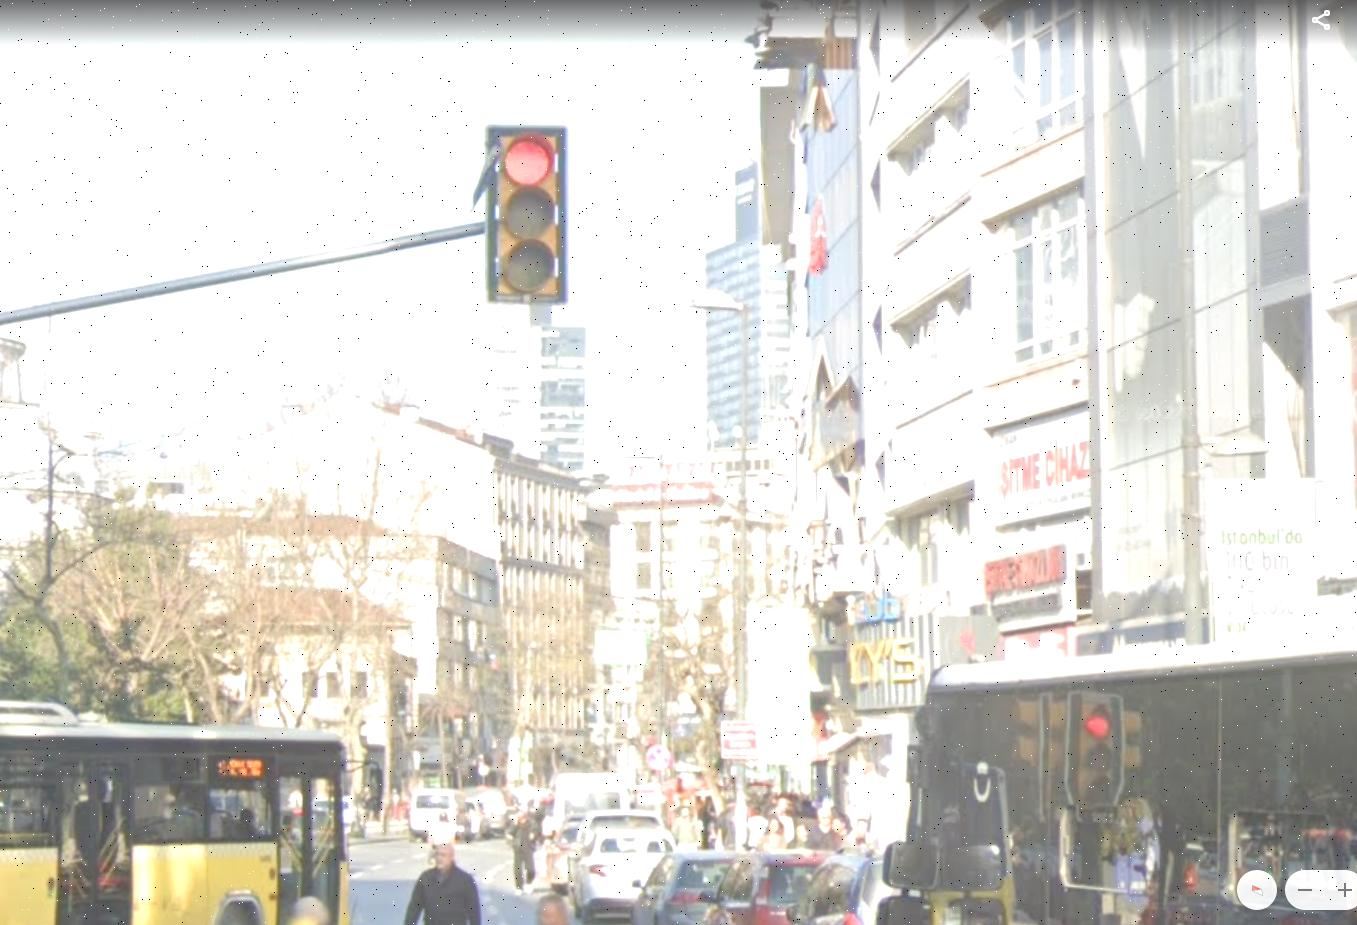redlight: (490, 118, 566, 304)
